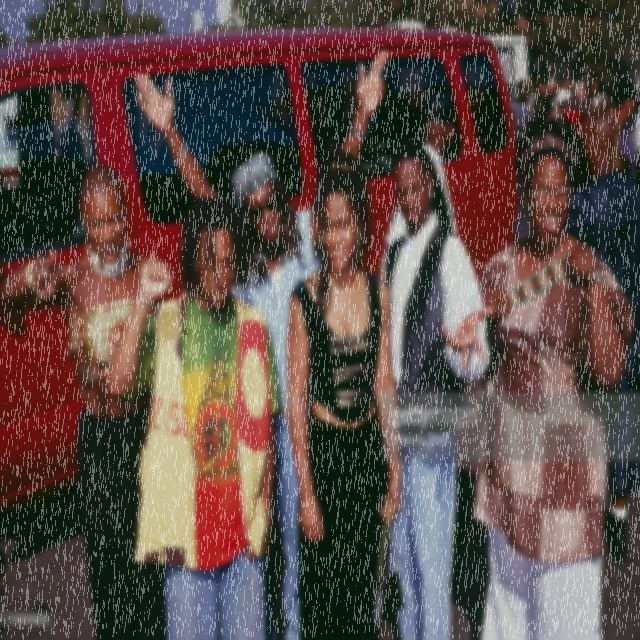pessoa: (131, 42, 394, 639), (460, 106, 640, 640), (100, 190, 288, 639), (0, 156, 171, 640), (282, 126, 405, 639), (379, 135, 496, 640), (560, 108, 640, 564), (564, 103, 640, 564), (382, 90, 462, 256), (510, 84, 536, 206), (606, 96, 640, 182), (558, 80, 594, 134), (604, 50, 640, 98), (530, 74, 556, 132), (555, 76, 573, 120), (590, 74, 612, 110), (512, 77, 528, 101), (546, 75, 556, 88), (587, 81, 592, 100)
